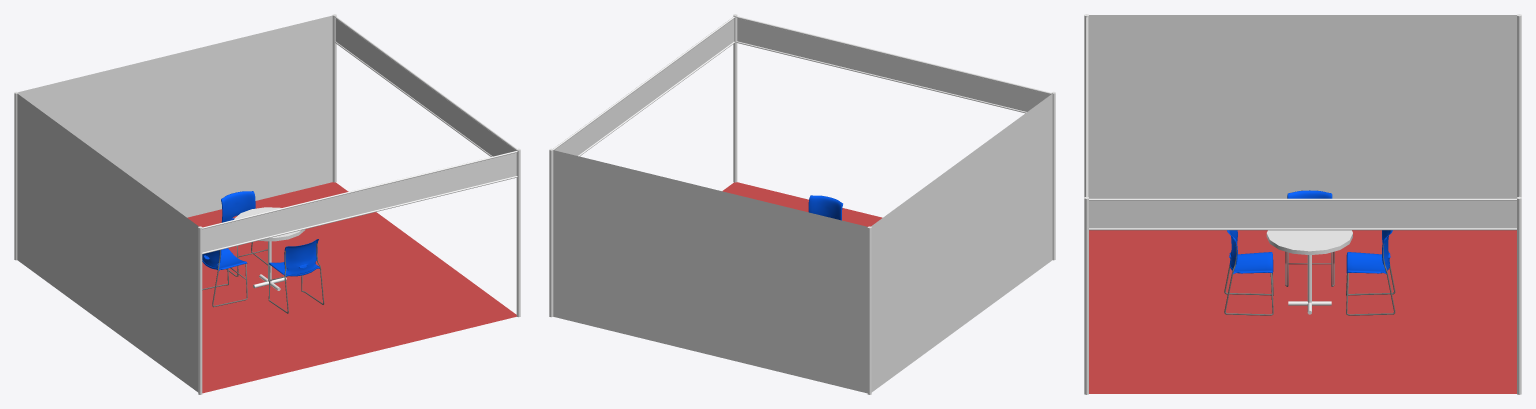
Rendered from stand2.fbx.
3 renders of one model, left to right at view 1: azimuth 30°, elevation 25°; view 2: azimuth 150°, elevation 25°; view 3: azimuth 270°, elevation 25°, orthographic. The views are drawn at different scales.
Parts seen in each view (by area): view 1: Object_15, Object_21, Object_16, Object_10, Object_9, Object_2, Object_20, Object_17, Object_7, Object_18, Object_14, Object_4 (+4 smaller); view 2: Object_15, Object_16, Object_10, Object_9, Object_21, Object_19, Object_18, Object_17, Object_14, Object_13, Object_20, Object_2 (+1 smaller); view 3: Object_16, Object_21, Object_9, Object_7, Object_12, Object_11, Object_2, Object_4, Object_18, Object_17, Object_19, Object_20 (+3 smaller).
Part boxes in pixels (bbox=[...]): Object_15: bbox=[18, 15, 332, 217]; Object_21: bbox=[187, 182, 516, 393]; Object_16: bbox=[17, 94, 198, 392]; Object_10: bbox=[202, 153, 516, 252]; Object_9: bbox=[335, 19, 516, 156]; Object_2: bbox=[269, 239, 319, 276]; Object_20: bbox=[198, 226, 202, 394]; Object_17: bbox=[516, 148, 520, 317]; Object_7: bbox=[234, 207, 305, 290]; Object_18: bbox=[332, 14, 336, 182]; Object_14: bbox=[202, 151, 517, 229]; Object_4: bbox=[221, 191, 255, 222]; Object_15: bbox=[553, 150, 867, 393]; Object_16: bbox=[871, 94, 1052, 392]; Object_10: bbox=[737, 18, 1050, 111]; Object_9: bbox=[554, 19, 734, 155]; Object_21: bbox=[722, 182, 882, 226]; Object_19: bbox=[867, 226, 871, 394]; Object_18: bbox=[549, 148, 553, 317]; Object_17: bbox=[733, 14, 737, 182]; Object_14: bbox=[736, 16, 1051, 94]; Object_13: bbox=[736, 41, 1026, 113]; Object_20: bbox=[1051, 91, 1055, 260]; Object_2: bbox=[808, 195, 842, 220]; Object_16: bbox=[1089, 15, 1516, 198]; Object_21: bbox=[1089, 230, 1516, 393]; Object_9: bbox=[1089, 201, 1516, 228]; Object_7: bbox=[1266, 230, 1352, 314]; Object_12: bbox=[1089, 228, 1516, 230]; Object_11: bbox=[1089, 198, 1516, 200]; Object_2: bbox=[1227, 230, 1273, 274]; Object_4: bbox=[1346, 230, 1392, 273]; Object_18: bbox=[1517, 196, 1521, 394]; Object_17: bbox=[1084, 196, 1088, 394]; Object_19: bbox=[1517, 14, 1521, 197]; Object_20: bbox=[1084, 14, 1088, 197].
Bounding box in the file's own units: 4.05 × 2 × 4.04.
